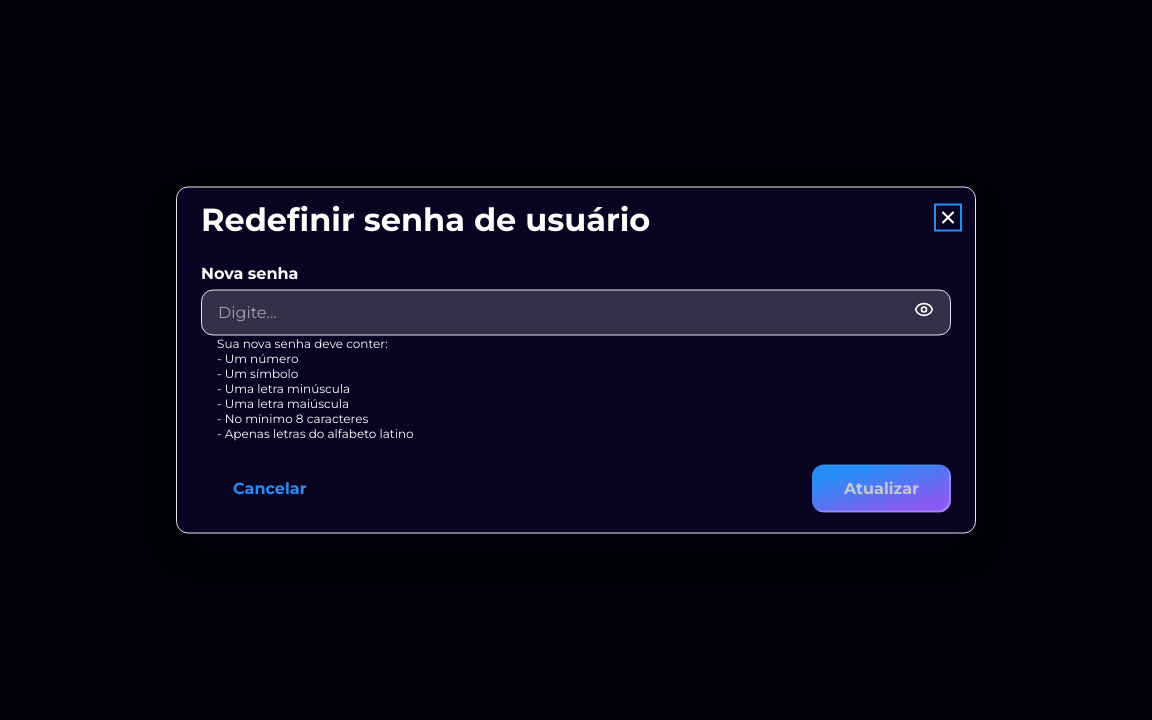
Test case: só libera Atualizar quando a senha cumpre as regras
Type "fraca" into the password field with placeholder "Digite..." at (560, 312), box [218, 300, 902, 324]
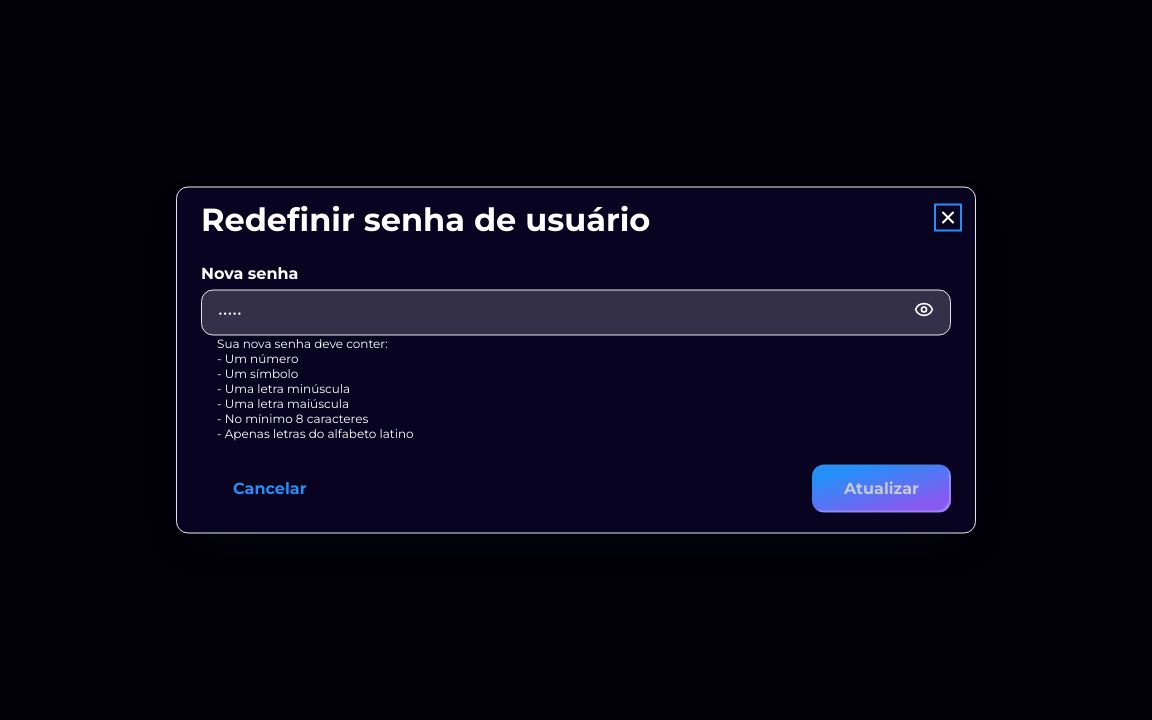
Expected: the button "Atualizar" is disabled, [812, 464, 951, 512]
Type "Forte#2026" into the password field with placeholder "Digite..." at (560, 312), box [218, 300, 902, 324]
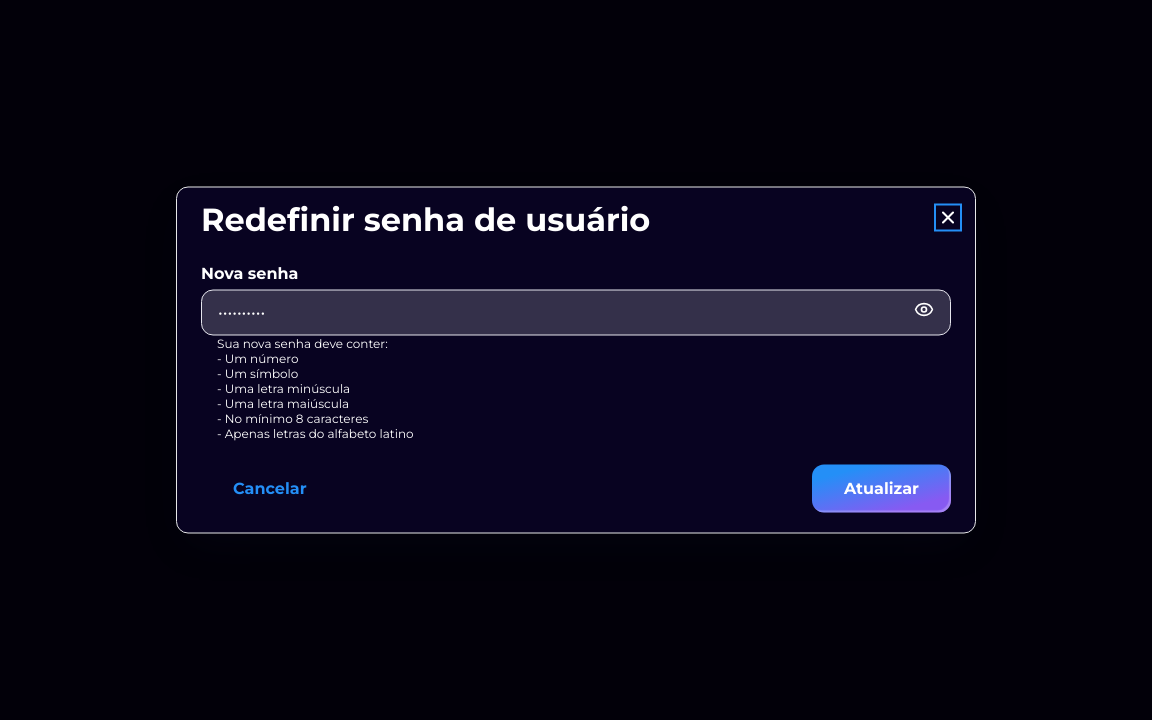
Expected: the button "Atualizar" is enabled, [812, 464, 951, 512]
